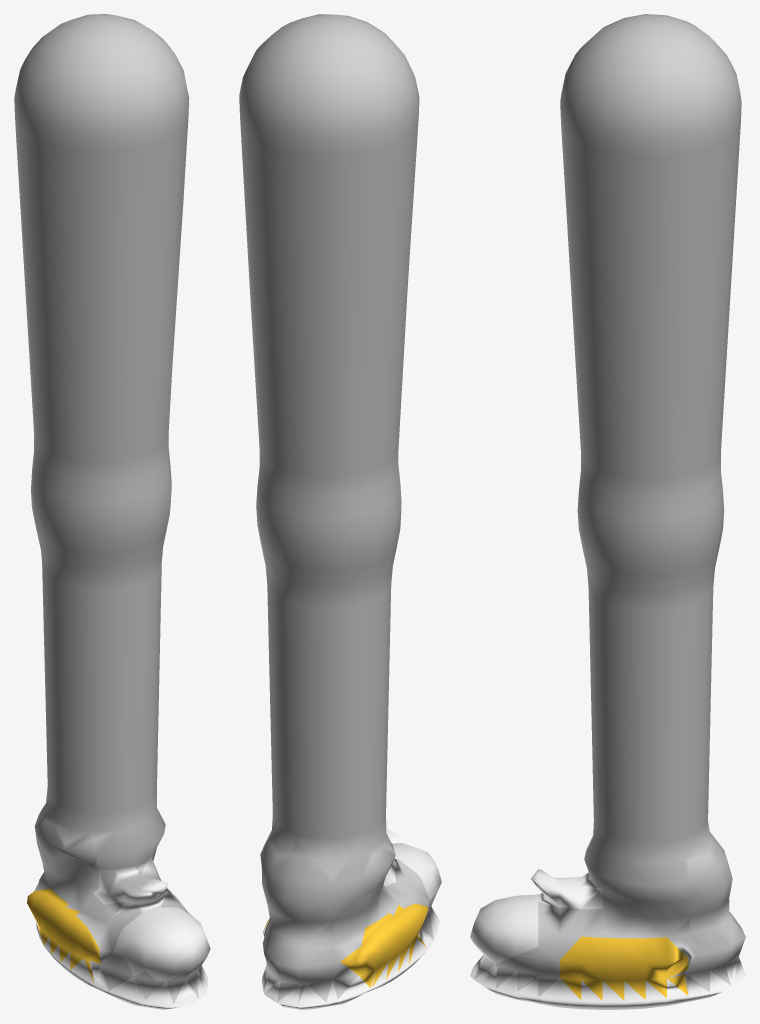
File: player_leg.fbx
3 views of the same model, side by side, from view 1: azimuth 30°, elevation 25°; view 2: azimuth 150°, elevation 25°; view 3: azimuth 270°, elevation 25° (orthographic). The views are drawn at different scales.
Visible parts, largest first — view 1: player_leg; view 2: player_leg; view 3: player_leg.
Part boxes in pixels (x1,y1,x2,y2): player_leg: [14, 14, 210, 1009]; player_leg: [239, 14, 441, 1009]; player_leg: [470, 14, 745, 1009].
Bounding box in the file's own units: 0.1694 × 1 × 0.2576.
